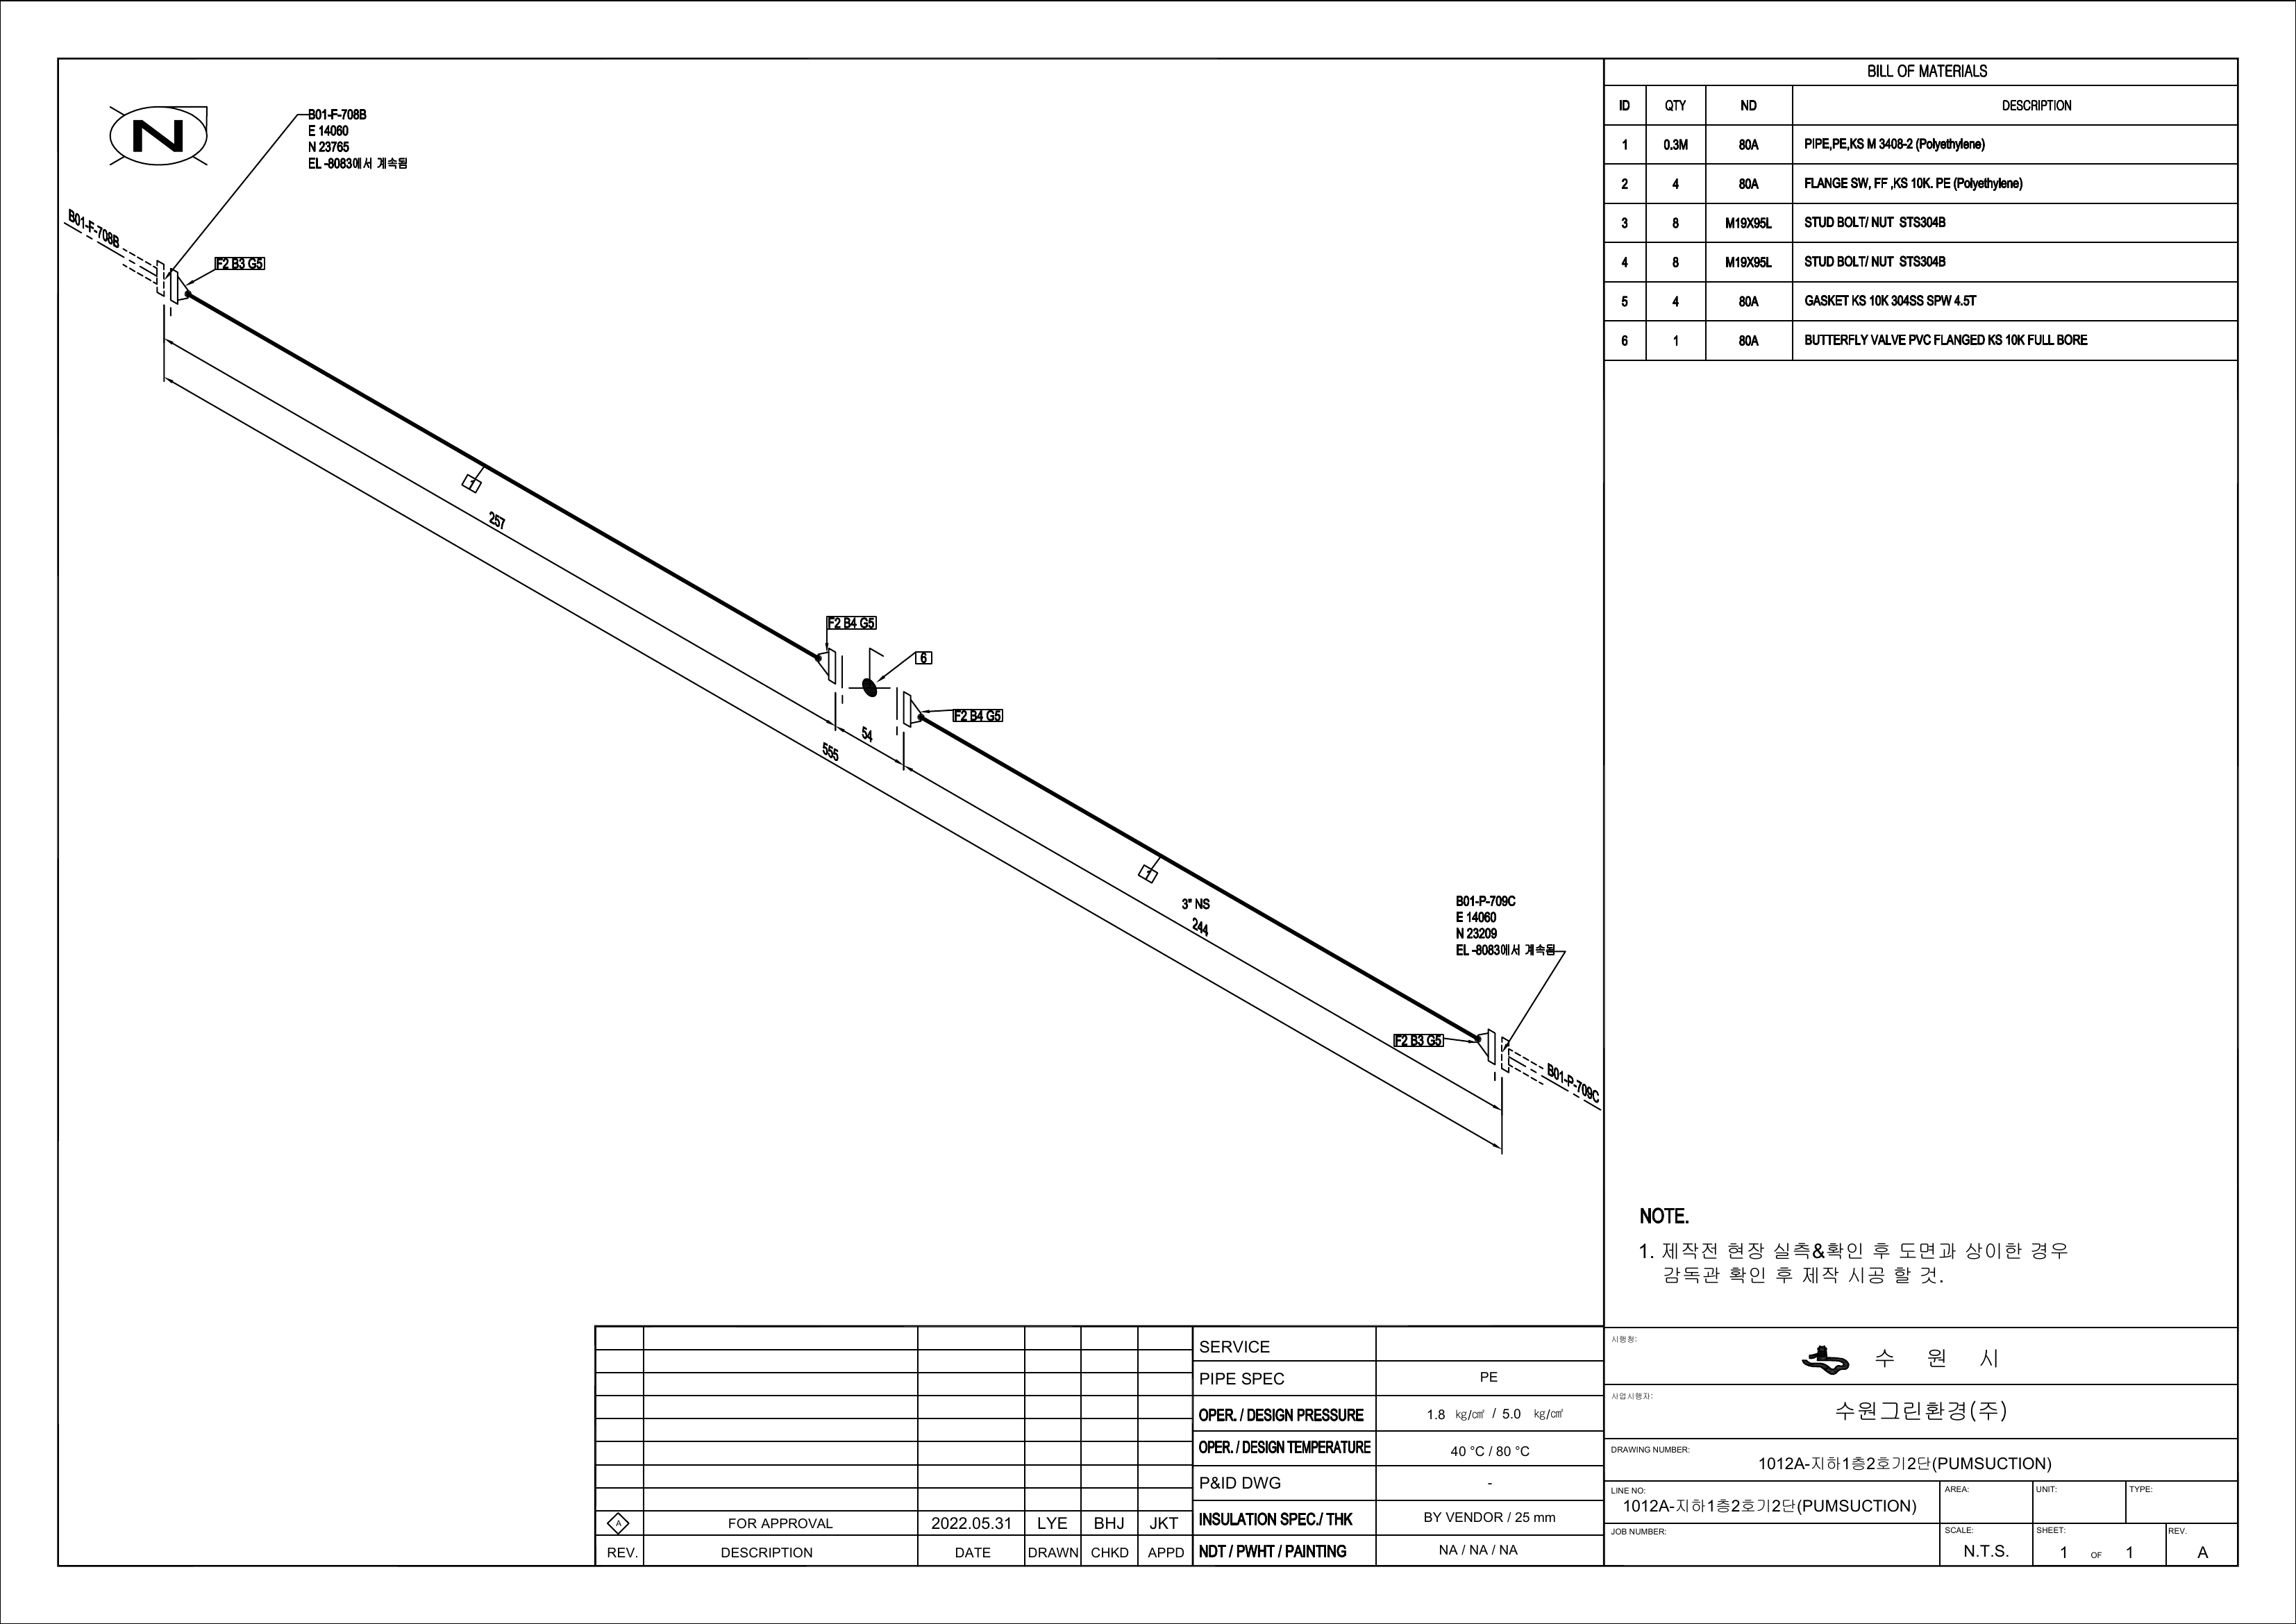table: (1595, 47, 2245, 369)
